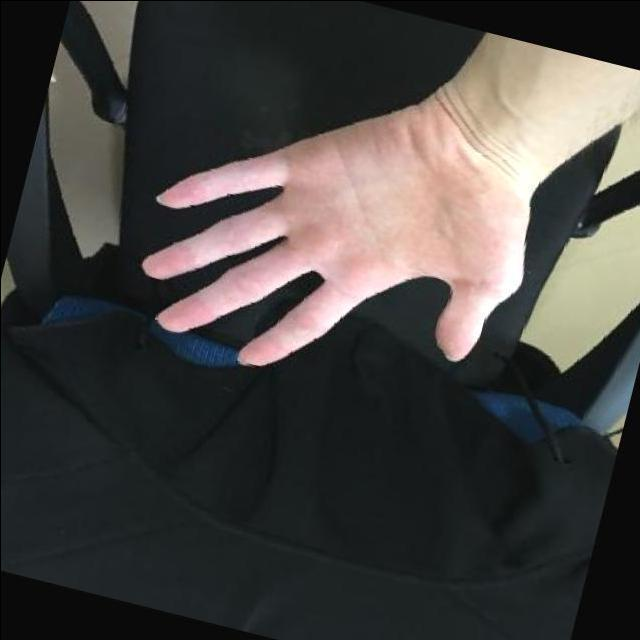hand: (105, 32, 573, 444)
